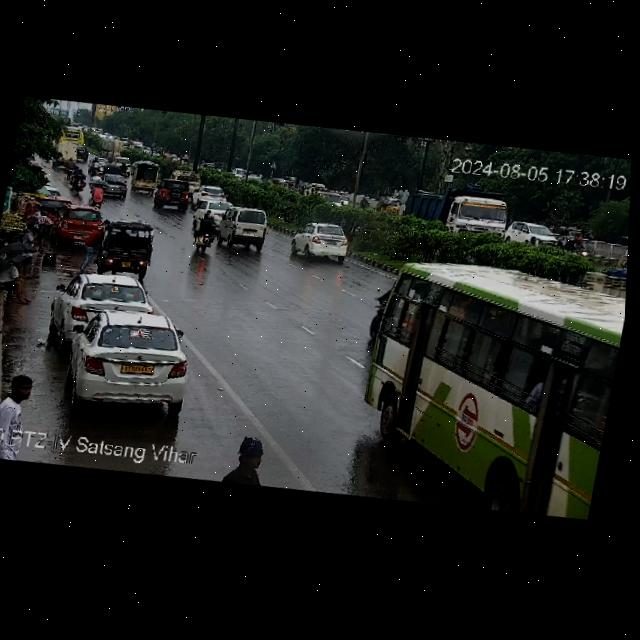bus: (340, 256, 626, 517)
car: (45, 299, 205, 424), (51, 265, 155, 345), (95, 216, 161, 276), (214, 200, 277, 258), (291, 220, 358, 268), (53, 205, 104, 247), (506, 217, 568, 250), (151, 177, 195, 213), (128, 160, 165, 194), (38, 182, 74, 214), (194, 198, 236, 223), (91, 172, 132, 197), (196, 183, 233, 203), (377, 193, 402, 215), (104, 160, 133, 177), (557, 223, 584, 238), (75, 143, 92, 165), (110, 155, 132, 169), (272, 177, 290, 189), (232, 165, 245, 180)
motorcycle: (189, 213, 221, 254), (67, 166, 91, 194), (567, 235, 590, 259), (88, 181, 106, 209), (52, 153, 75, 172), (61, 157, 77, 174), (90, 155, 103, 172), (359, 194, 370, 209)
person: (219, 435, 278, 486), (0, 373, 41, 437), (0, 253, 39, 305), (15, 220, 43, 276), (82, 226, 101, 266), (22, 202, 48, 219)
truck: (403, 171, 516, 244), (302, 182, 346, 208), (54, 141, 85, 167), (167, 166, 204, 185)
